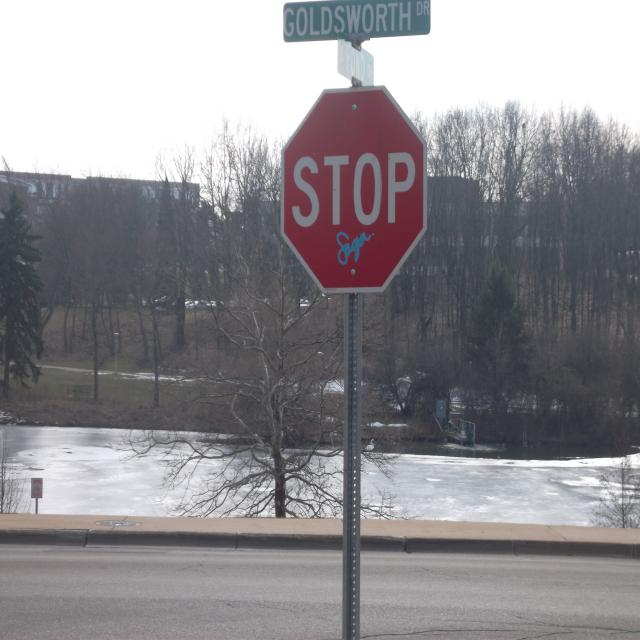stop: (270, 79, 437, 302)
